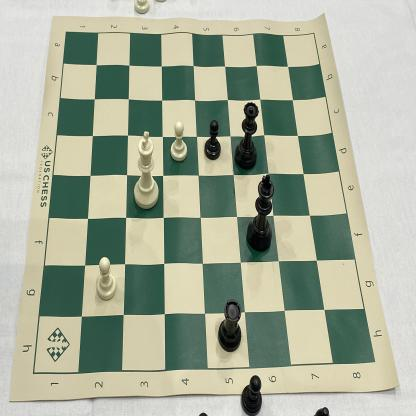black-king: (244, 172, 276, 254)
black-pawn: (200, 116, 223, 161)
black-queen: (232, 99, 261, 176)
black-rook: (217, 295, 244, 355)
white-king: (128, 128, 161, 213)
white-pawn: (92, 254, 121, 302), (167, 120, 190, 163)
